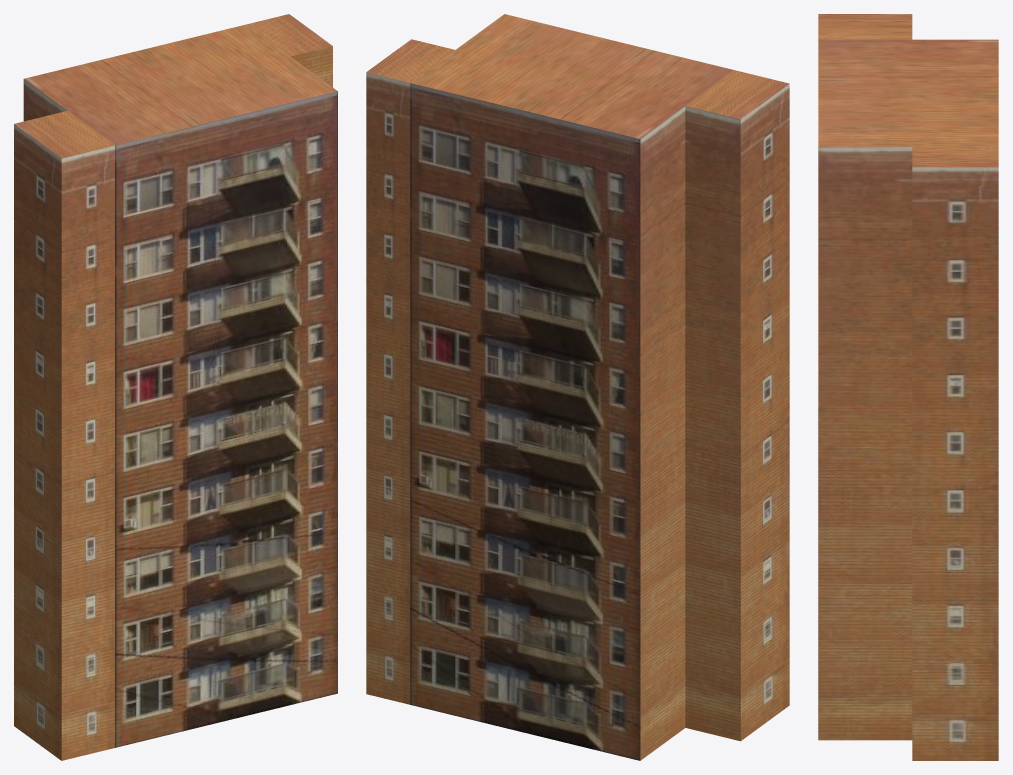
File: lic_apartment_12.glb
The picture shows the model from 3 angles, left to right: view 1: azimuth 30°, elevation 25°; view 2: azimuth 150°, elevation 25°; view 3: azimuth 270°, elevation 25°; orthographic projection. The views are drawn at different scales.
Parts seen in each view (by area): view 1: building; view 2: building; view 3: building.
Part boxes in pixels (x1,y1,x2,y2): building: [14, 14, 337, 760]; building: [366, 14, 789, 760]; building: [818, 14, 998, 760].
Bounding box in the file's own units: 22.16 × 40 × 11.
1 material, 1 textured.
